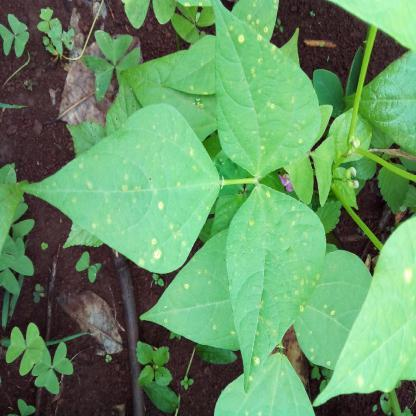Beans_Rust: (16, 104, 220, 273), (206, 0, 325, 174), (224, 188, 320, 392), (311, 218, 416, 403), (137, 229, 246, 348), (212, 350, 319, 416), (231, 0, 279, 40)
